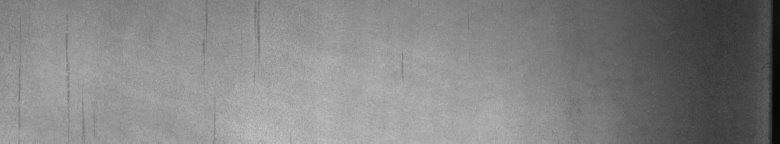ka: (202, 14, 264, 52)
